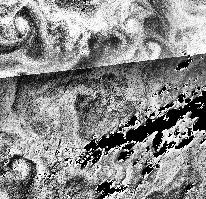CE: (6, 153, 39, 184), (9, 7, 40, 40)
